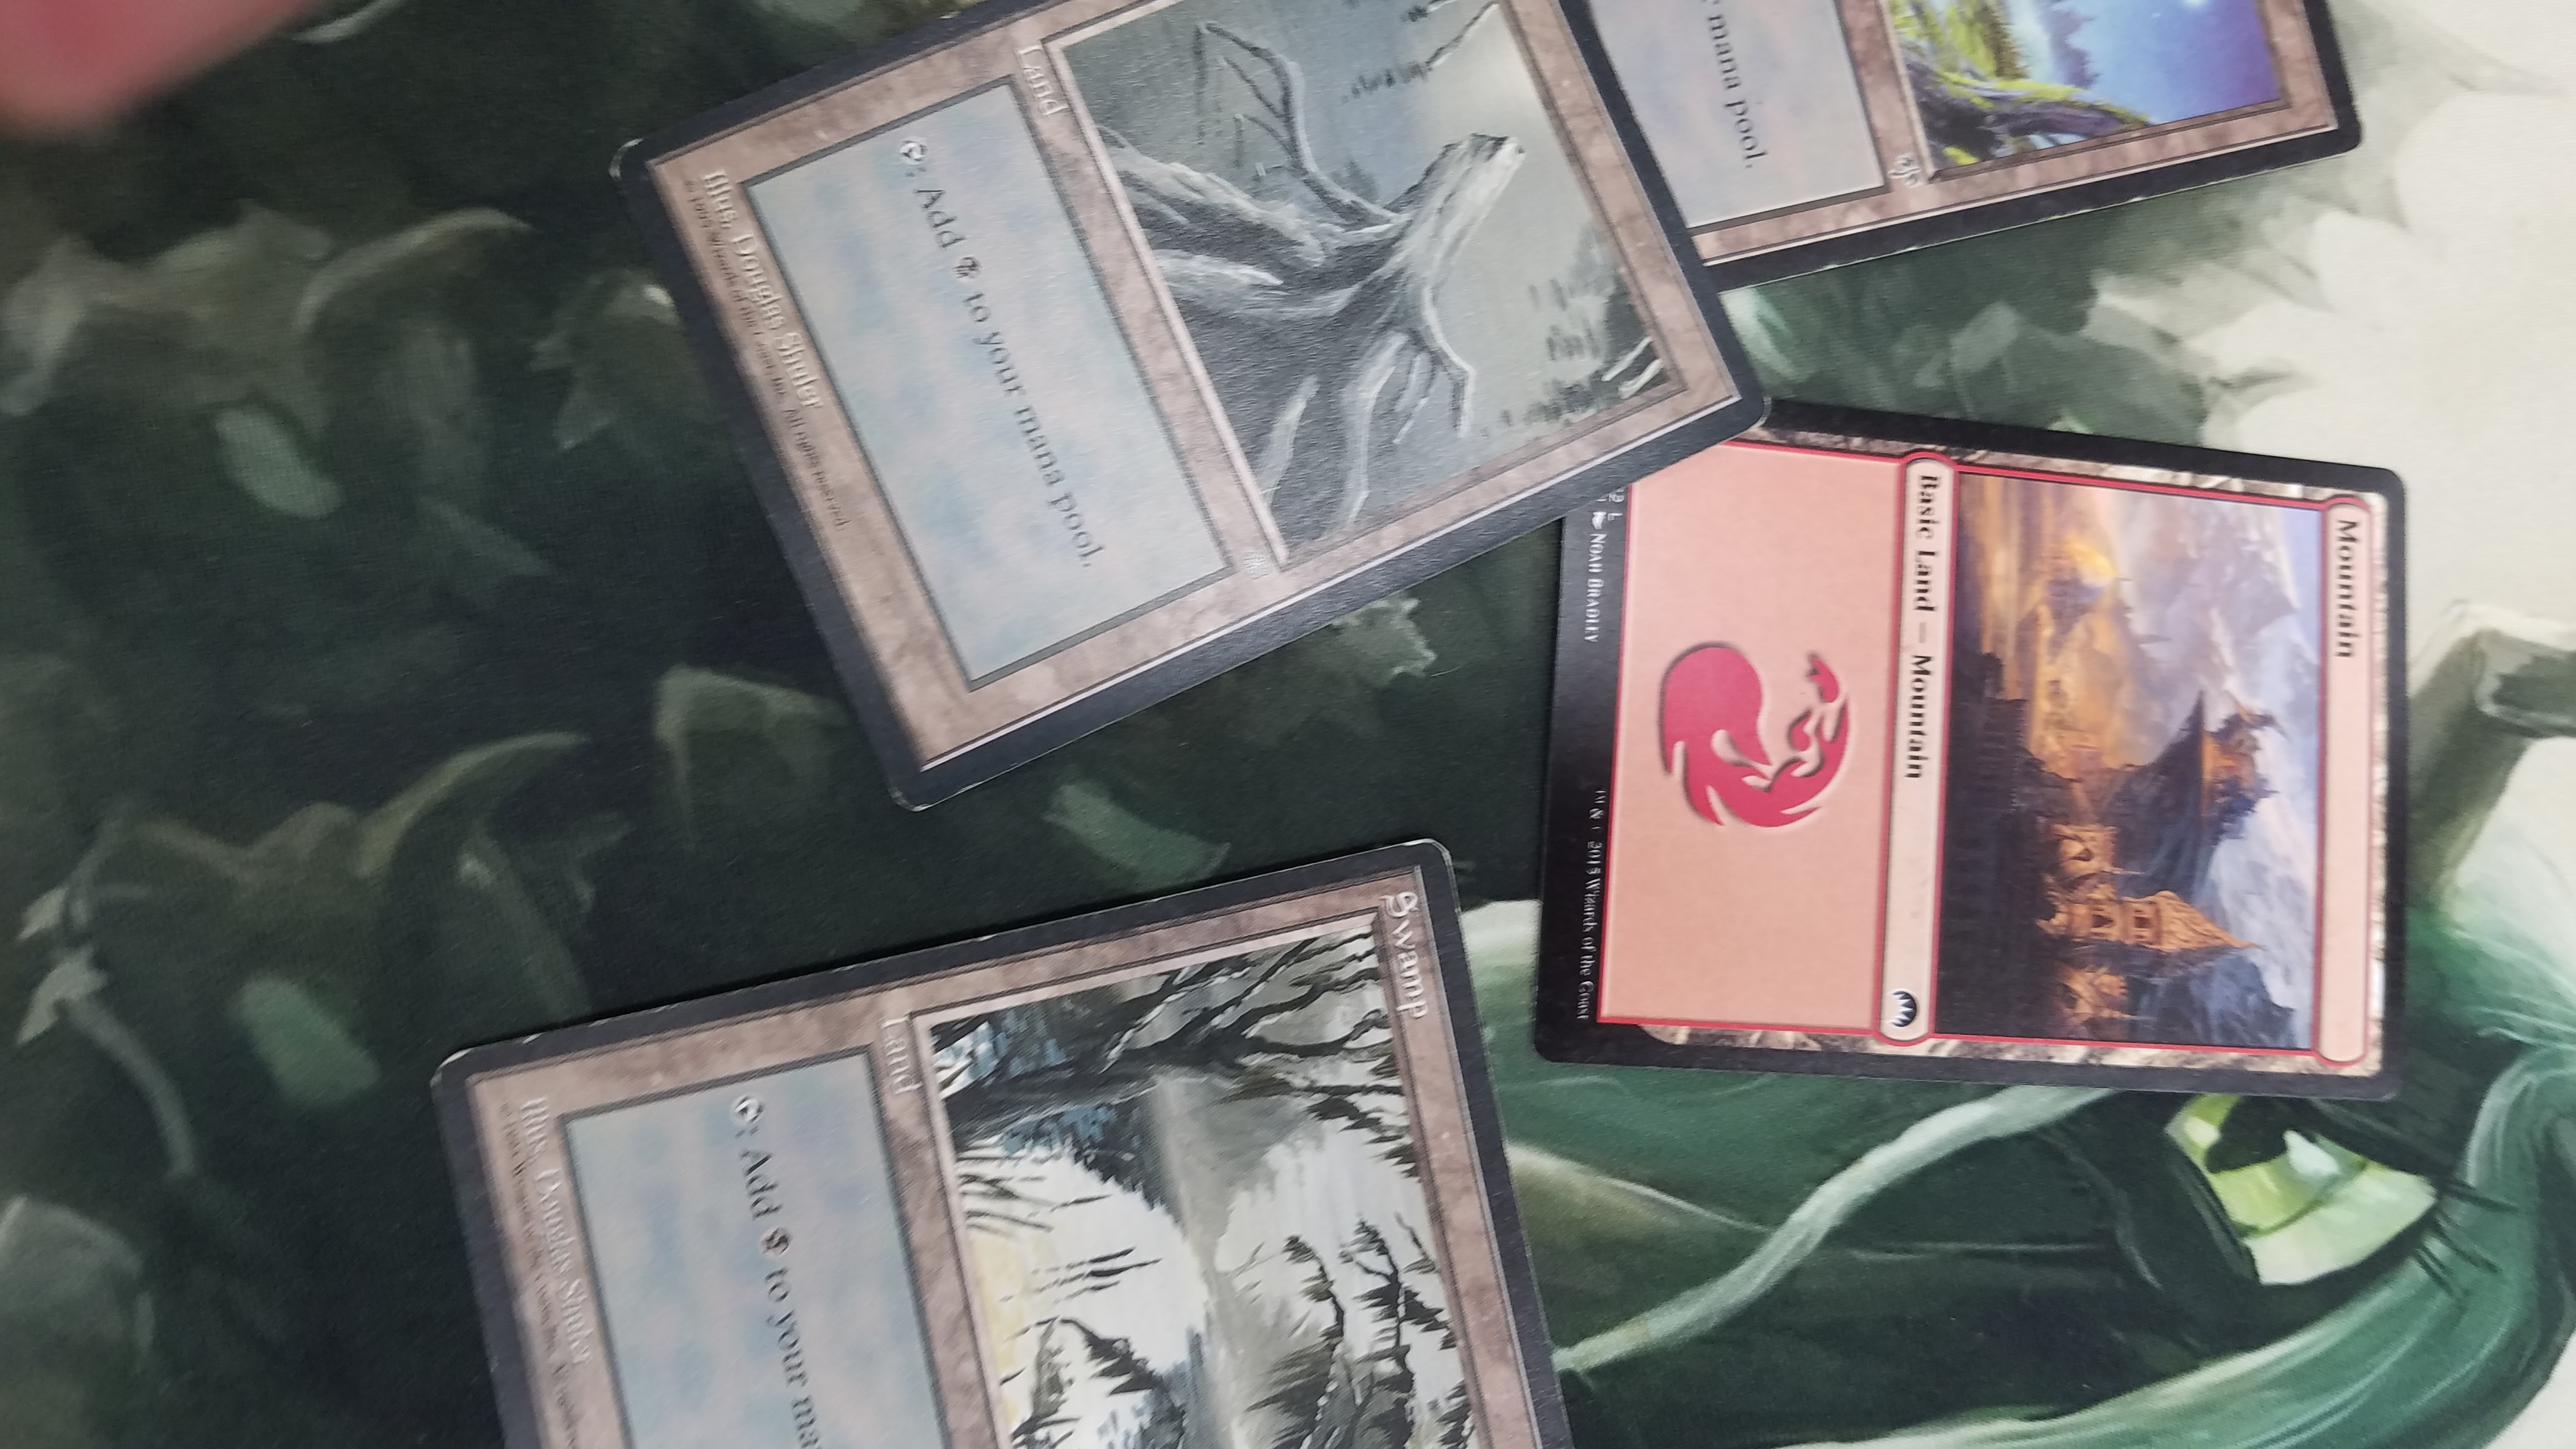Card: (414, 830, 1599, 1449), (1536, 393, 2426, 1111)
